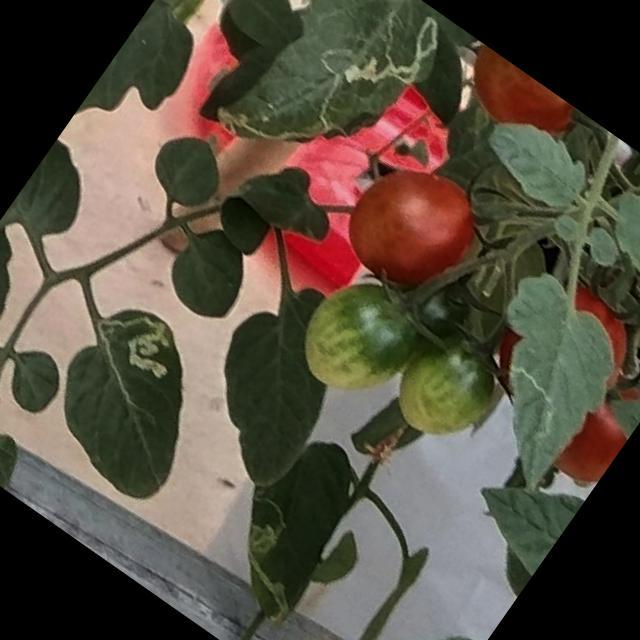Tomato target spot leaf: (199, 0, 466, 220), (415, 253, 640, 502), (21, 284, 245, 514), (192, 416, 392, 638), (0, 374, 43, 492)
